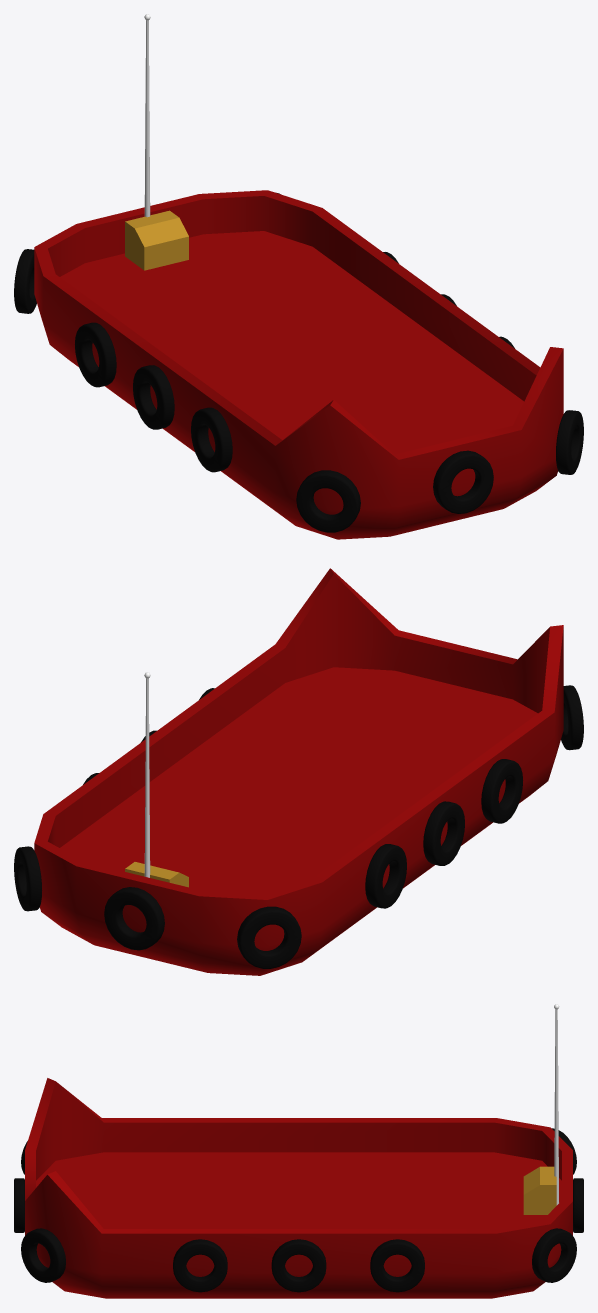
File: barge.fbx
3 renders of one model, top to bottom at view 1: azimuth 30°, elevation 25°; view 2: azimuth 150°, elevation 25°; view 3: azimuth 270°, elevation 25°, orthographic. The views are drawn at different scales.
Parts seen in each view (by area): view 1: barge; view 2: barge; view 3: barge.
Part boxes in pixels (bbox=[...]): barge: bbox=[14, 14, 583, 539]; barge: bbox=[14, 568, 583, 975]; barge: bbox=[14, 1004, 583, 1298].
Size of the model in its own units: 27 by 25.25 by 52.
